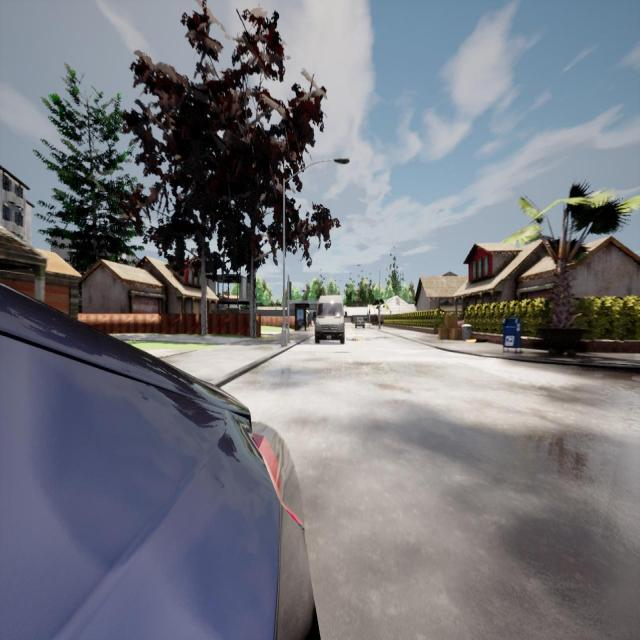Vehicle: (0, 285, 314, 637), (314, 295, 345, 344), (355, 317, 365, 328)
traffic_light: (287, 282, 292, 300)
